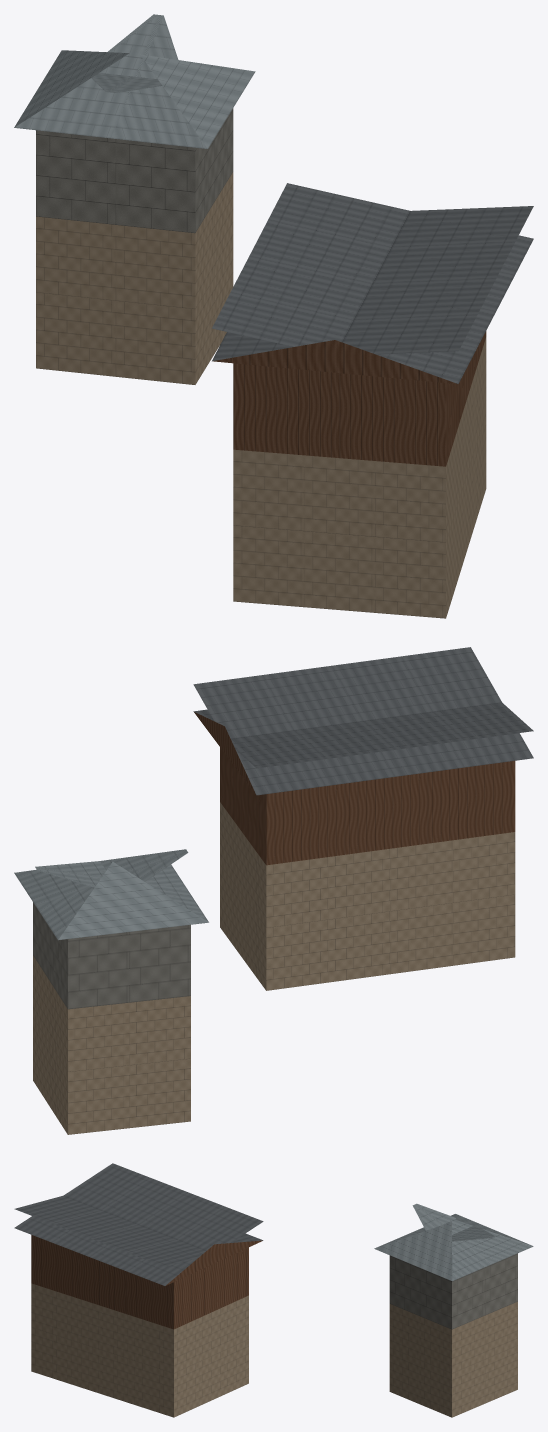
File: bld_c15_25_397.gltf
The picture shows the model from 3 angles, top to bottom: view 1: azimuth 30°, elevation 25°; view 2: azimuth 150°, elevation 25°; view 3: azimuth 270°, elevation 25°; orthographic projection. The views are drawn at different scales.
Visible parts, largest first — view 1: bld_c15_25_397; view 2: bld_c15_25_397; view 3: bld_c15_25_397.
Boxes of the visible parts, x1,y1,x2,y2 form: bld_c15_25_397: (14,14,533,618); bld_c15_25_397: (14,647,533,1134); bld_c15_25_397: (14,1163,533,1417).
Size of the model in its own units: 11.72 by 8.9 by 24.76.
Materials: 6 (6 with a texture image).
